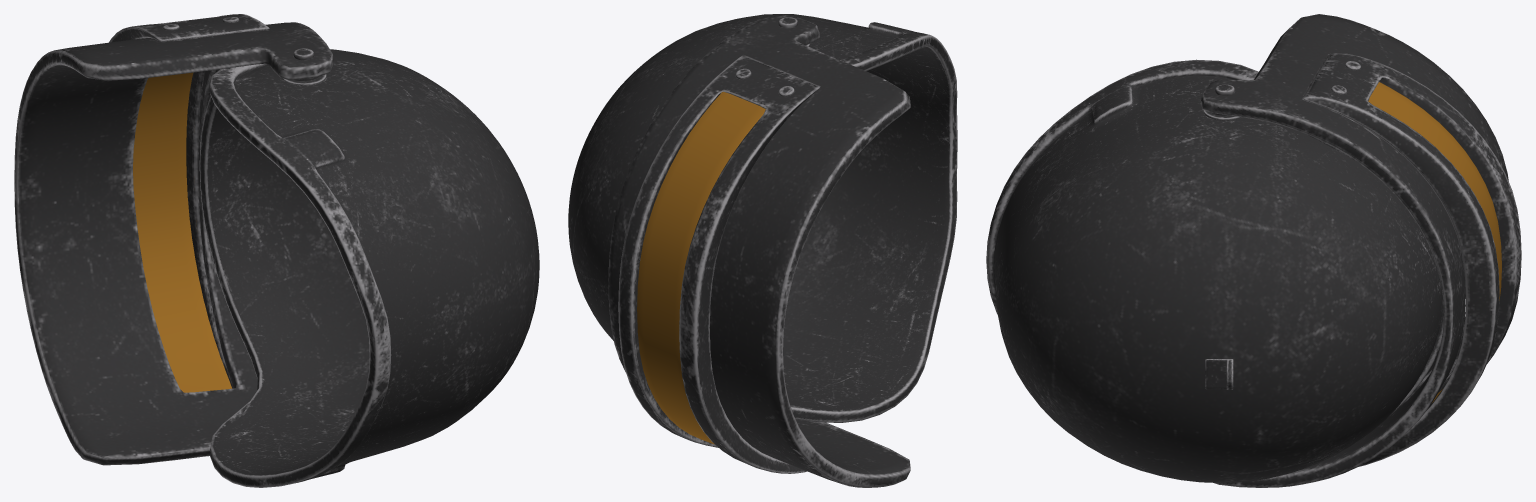
Rendered from dduk3.obj.
3 renders of one model, left to right at view 1: azimuth 30°, elevation 25°; view 2: azimuth 150°, elevation 25°; view 3: azimuth 270°, elevation 25°, orthographic. The views are drawn at different scales.
Visible parts, largest first — view 1: 1_low, 2_low, 3_low; view 2: 2_low, 1_low, 3_low; view 3: 1_low, 2_low, 3_low.
Part boxes in pixels (x1,y1,x2,y2): 1_low: (199,49,539,487); 2_low: (14,14,333,465); 3_low: (133,72,231,392); 2_low: (608,14,910,487); 1_low: (568,14,957,422); 3_low: (637,92,765,444); 1_low: (986,59,1443,482); 2_low: (1201,14,1521,487); 3_low: (1368,82,1501,402).
Size of the model in its own units: 2.09 by 2.11 by 2.63.
1 material, 1 textured.
